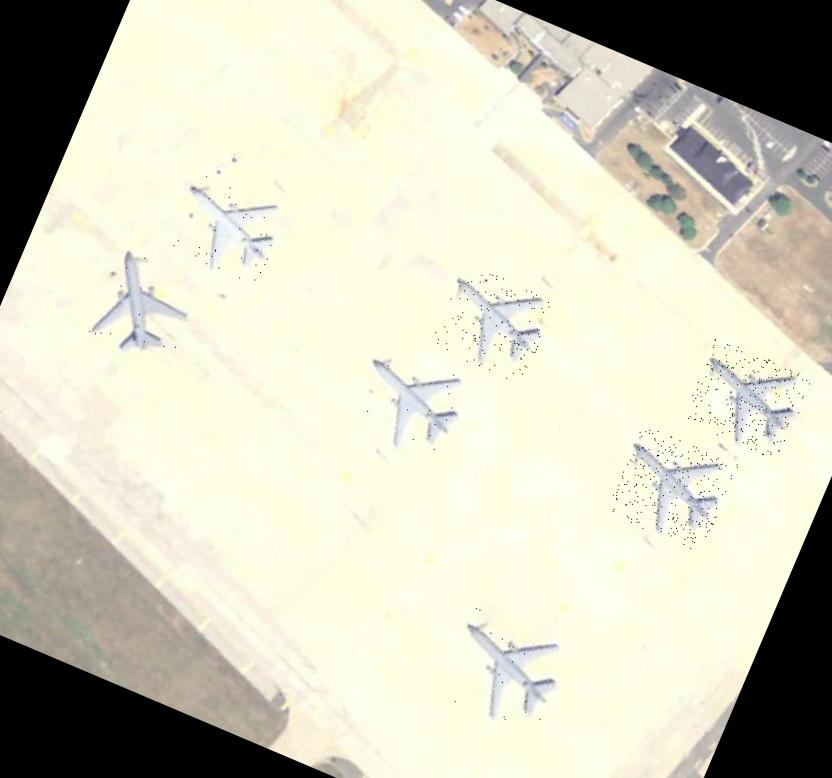A18: (434, 604, 574, 737), (605, 424, 738, 553), (680, 337, 813, 461), (428, 262, 557, 384), (345, 342, 473, 462), (163, 169, 290, 288), (84, 246, 203, 370)
